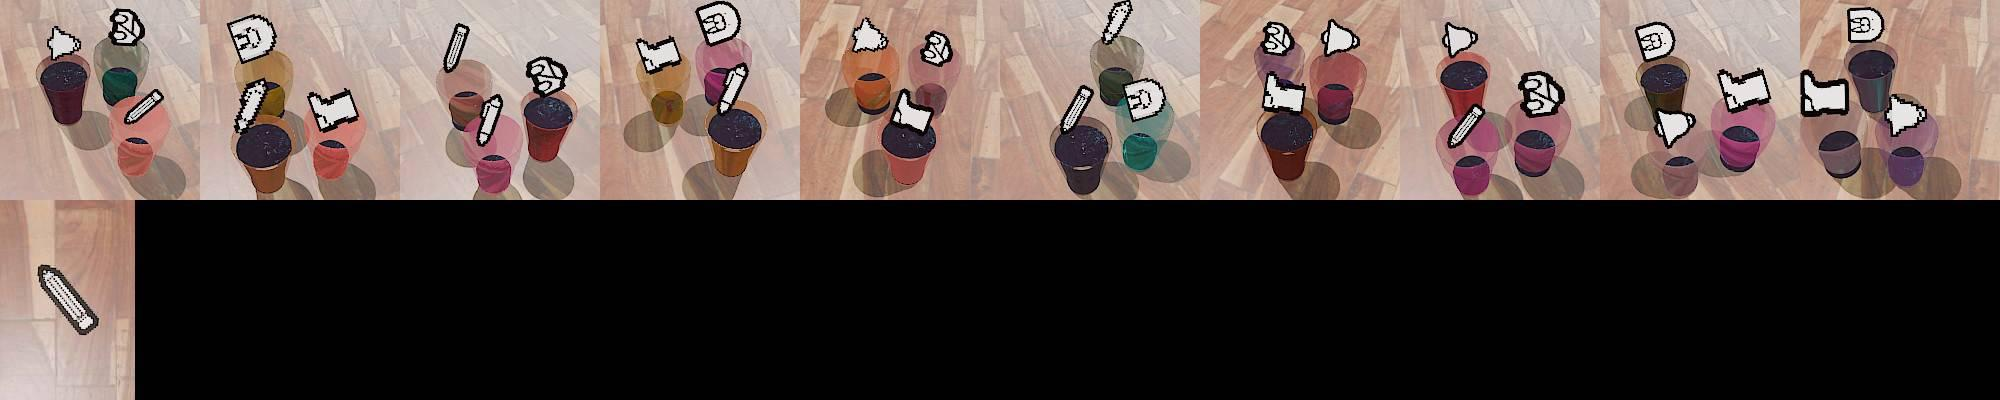icon: (37, 262, 102, 335), (1716, 66, 1773, 113), (226, 14, 278, 65), (1798, 70, 1851, 117), (306, 87, 360, 132), (1517, 70, 1566, 117), (233, 78, 273, 135), (695, 1, 742, 48), (1261, 71, 1309, 117), (889, 88, 935, 134), (1122, 76, 1167, 122), (1881, 93, 1929, 136), (1651, 106, 1696, 149), (716, 61, 751, 116), (1057, 83, 1093, 136), (1634, 22, 1677, 65), (635, 33, 682, 73), (121, 87, 166, 127), (524, 55, 569, 94), (1448, 103, 1486, 149), (1320, 18, 1360, 57), (443, 20, 471, 75), (476, 92, 504, 146), (1101, 0, 1134, 46), (108, 6, 147, 46), (849, 18, 889, 55), (1443, 20, 1480, 59), (1847, 8, 1884, 45), (47, 24, 83, 60), (920, 31, 954, 66), (1261, 20, 1295, 56)
